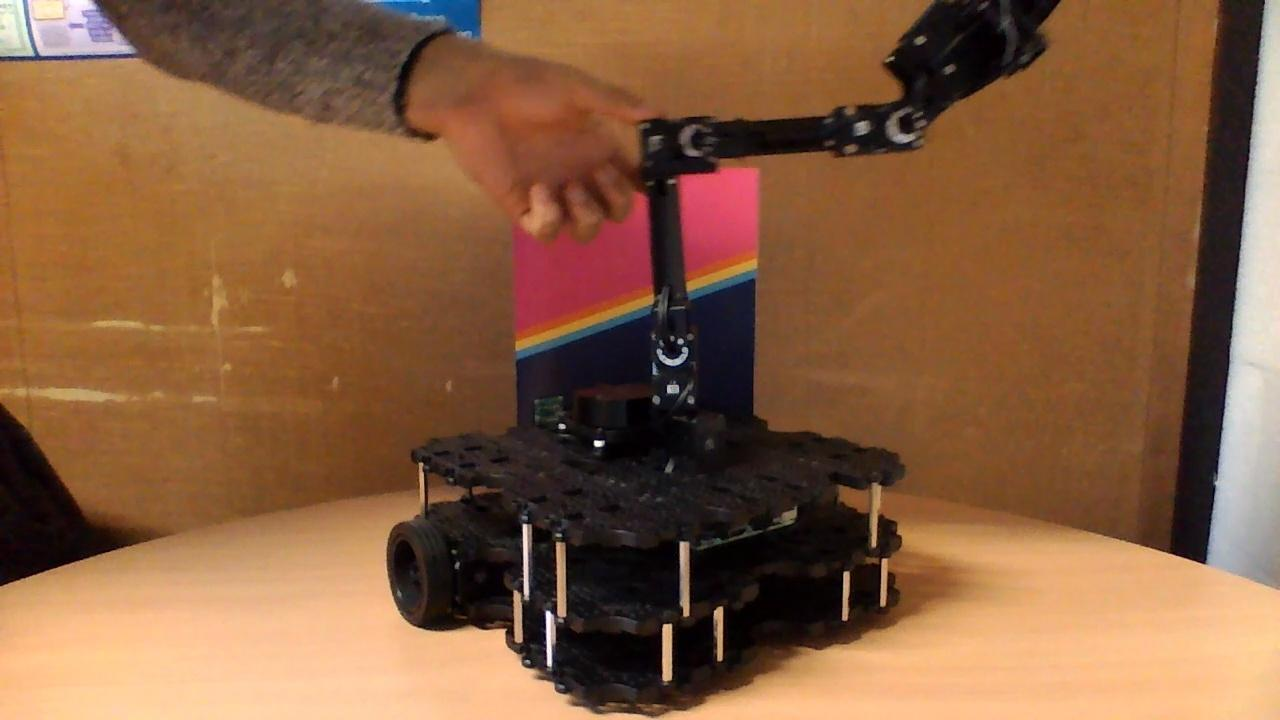Arm: (635, 115, 722, 373)
Hand: (882, 0, 1064, 145)
Wrist: (676, 99, 929, 176)
base: (385, 379, 909, 708)
